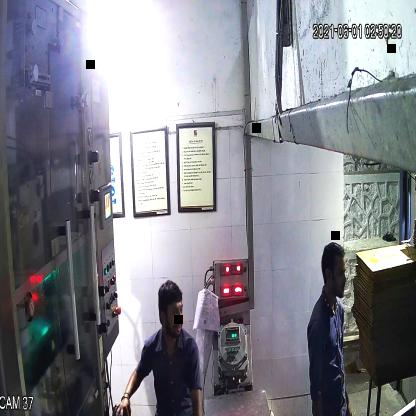no_goggles: (321, 261, 349, 283), (157, 302, 187, 322)
